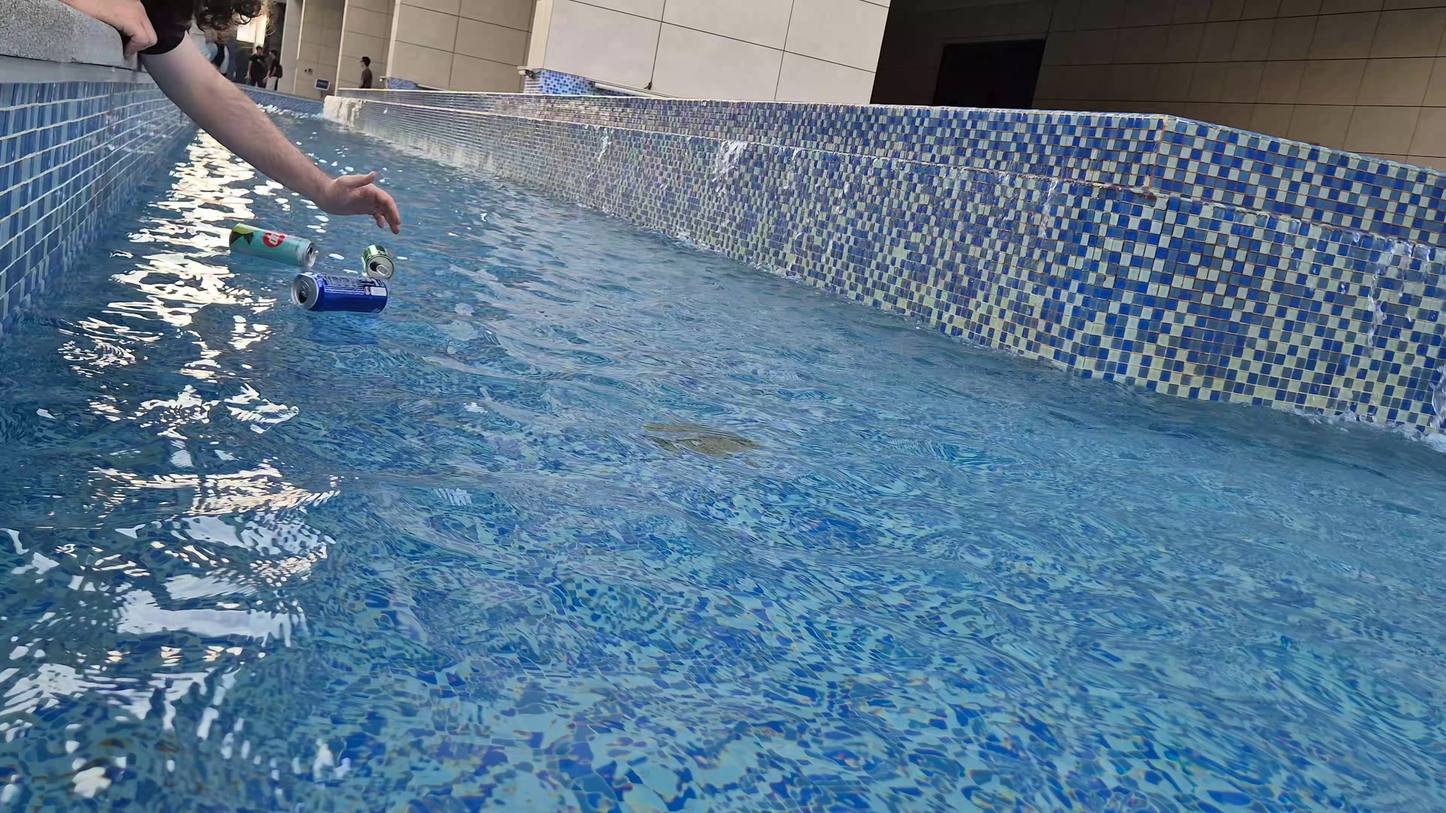debris: (227, 218, 319, 273), (285, 273, 392, 306), (356, 241, 398, 280)
